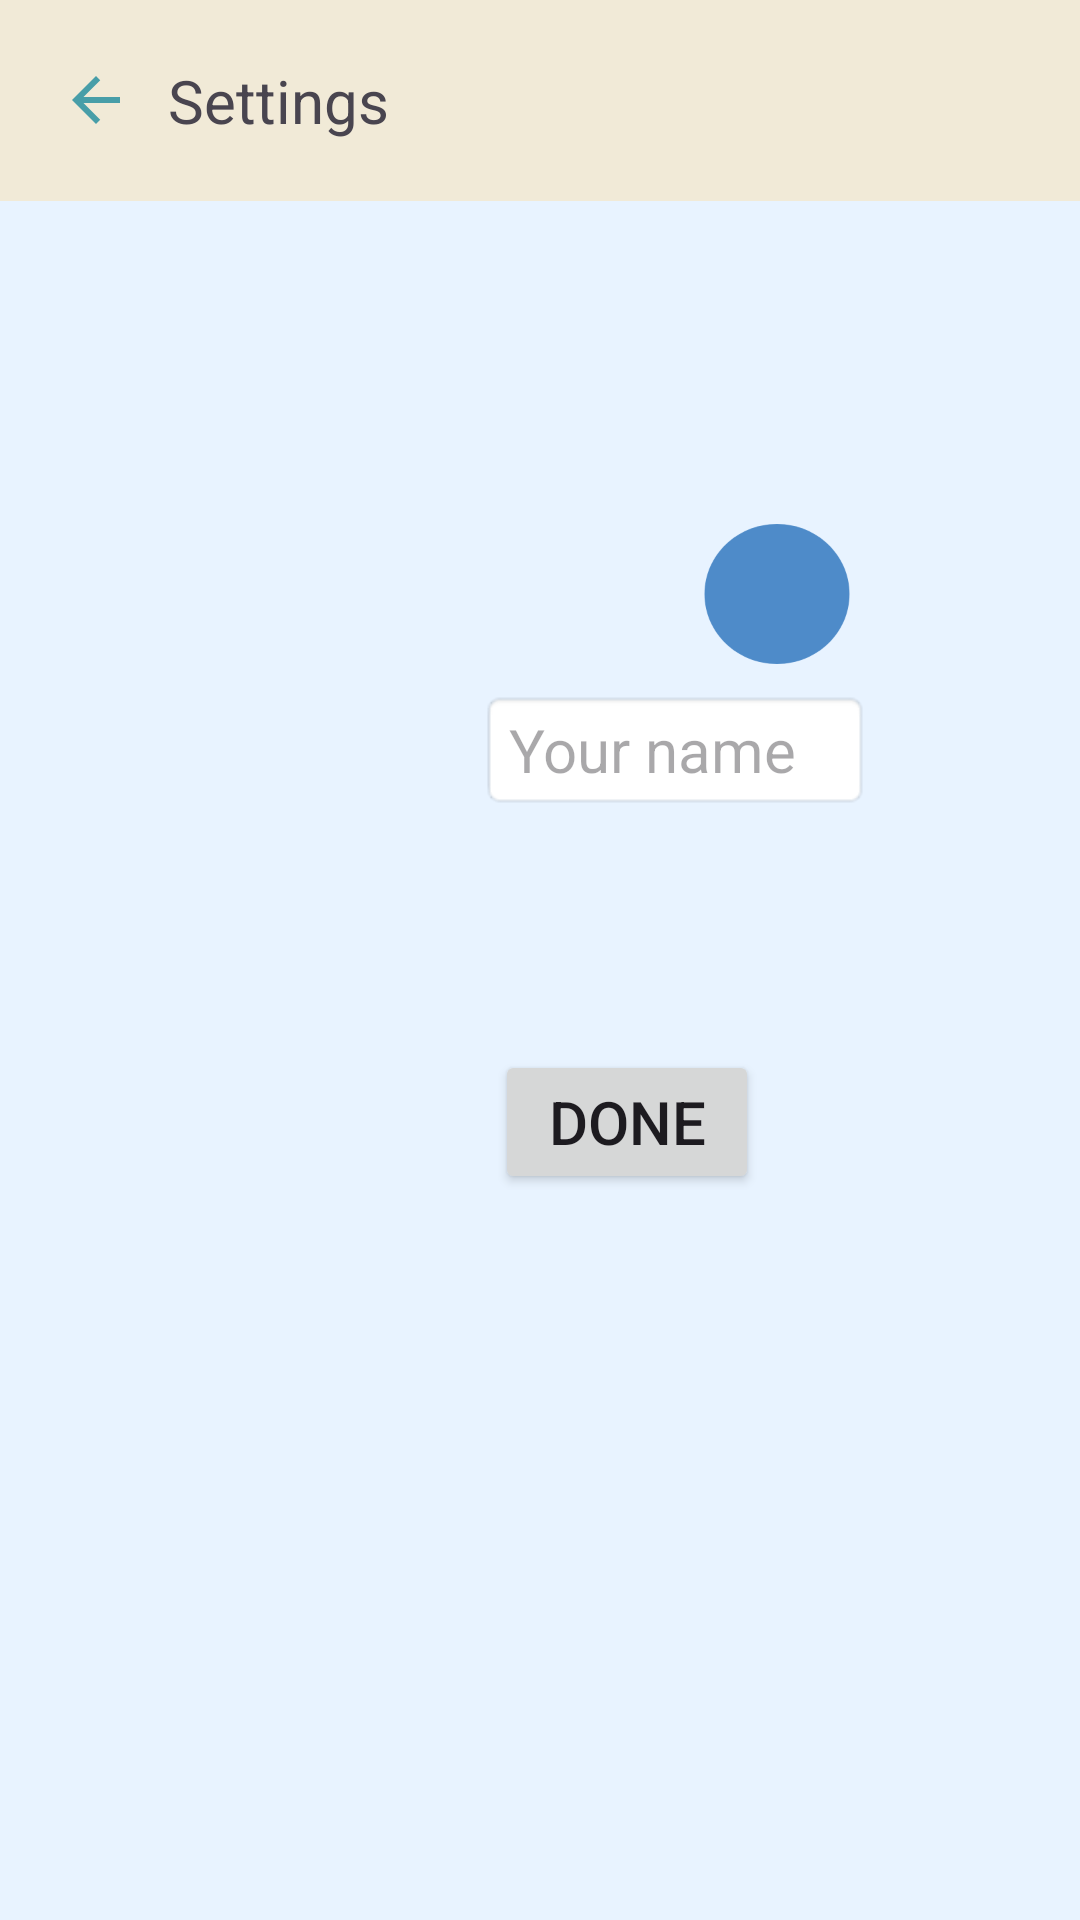

Locate icon controls on the screen. Image size 1080x1920, boxes as (x1, y1, x2, y2).
arrow back: (72, 76, 120, 124)
